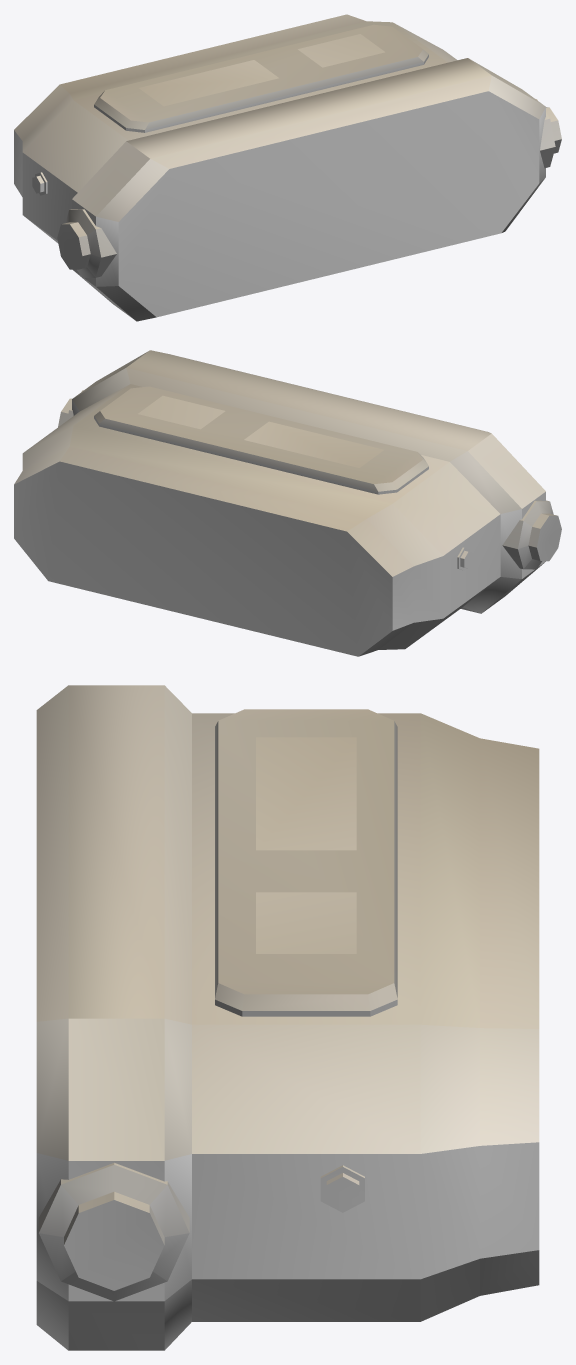
The model's file is ammo-belt-chute.glb.
3 views of the same model, one above another, from view 1: azimuth 30°, elevation 25°; view 2: azimuth 150°, elevation 25°; view 3: azimuth 270°, elevation 25° (orthographic). The views are drawn at different scales.
Parts seen in each view (by area): view 1: Body; view 2: Body; view 3: Body.
Boxes of the visible parts, x1,y1,x2,y2 form: Body: (14,14,561,321); Body: (14,350,561,656); Body: (36,685,539,1350).
Size of the model in its own units: 0.3876 by 0.1257 by 0.176.
